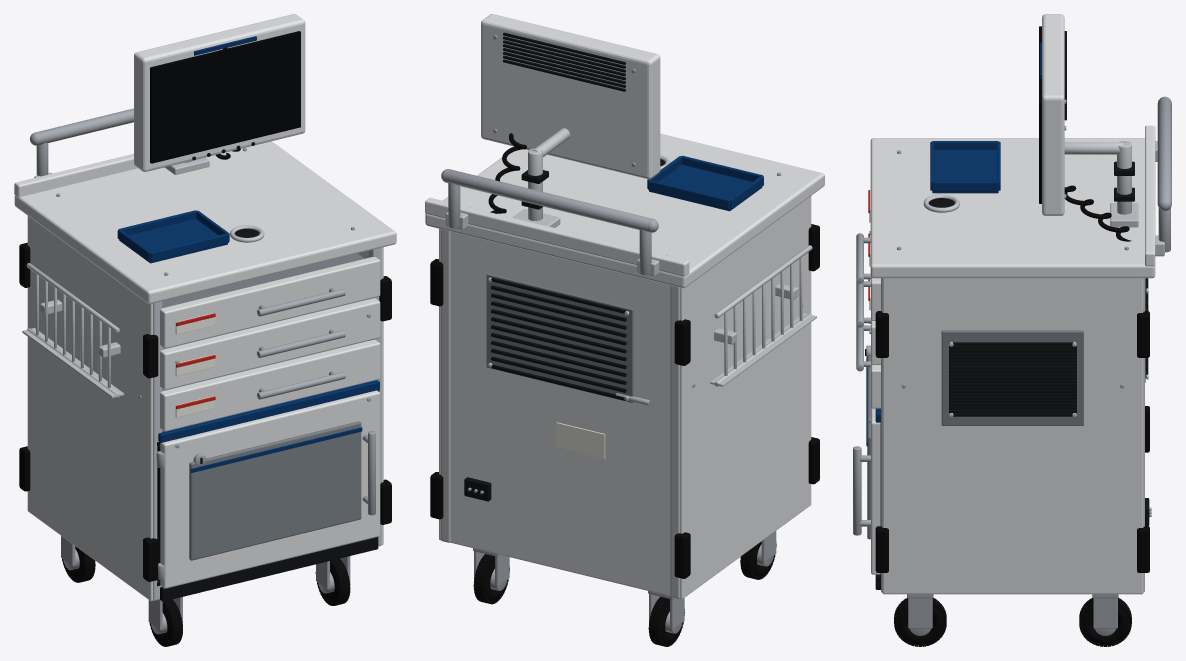
Rendered from demo-blender-001.lod0.glb.
3 renders of one model, left to right at view 1: azimuth 30°, elevation 25°; view 2: azimuth 150°, elevation 25°; view 3: azimuth 270°, elevation 25°, orthographic. The views are drawn at different scales.
Parts seen in each view (by area): view 1: body_left, door_single, worktop, monitor_screen, drawer_03, drawer_02, drawer_01, monitor_housing, side_basket, kick_plate, front_rail, worktop_upstand (+12 smaller); view 2: body_back, body_left, worktop, monitor_housing, back_vent_frame, side_basket, worktop_upstand, handle_bar, body_post_04, body_post_03, top_tray_floor, caster_04 (+23 smaller); view 3: body_right, worktop, monitor_housing, vent_frame, door_single, caster_02, caster_04, top_tray_floor, worktop_upstand, handle_bar, drawer_03, drawer_01 (+35 smaller).
Boxes of the visible parts, box(x1,y1,x2,y2) form: body_left: box(27, 216, 153, 601); door_single: box(160, 390, 380, 588); worktop: box(14, 141, 396, 303); monitor_screen: box(150, 31, 300, 163); drawer_03: box(160, 253, 380, 348); drawer_02: box(160, 298, 380, 389); drawer_01: box(160, 340, 380, 431); monitor_housing: box(134, 14, 305, 171); side_basket: box(22, 263, 124, 398); kick_plate: box(160, 537, 378, 601); front_rail: box(158, 380, 379, 442); worktop_upstand: box(14, 154, 137, 197); body_back: box(450, 231, 670, 596); body_left: box(680, 196, 811, 598); worktop: box(425, 133, 824, 288); monitor_housing: box(481, 14, 660, 179); back_vent_frame: box(486, 273, 633, 402); side_basket: box(710, 245, 816, 386); worktop_upstand: box(425, 197, 689, 276); handle_bar: box(445, 169, 652, 232); body_post_04: box(441, 229, 450, 542); body_post_03: box(670, 285, 679, 598); top_tray_floor: box(649, 164, 762, 211); caster_04: box(473, 548, 509, 604); body_right: box(882, 278, 1143, 594); worktop: box(870, 138, 1155, 278); monitor_housing: box(1042, 14, 1064, 215); vent_frame: box(941, 330, 1083, 425); door_single: box(853, 345, 880, 574); caster_02: box(894, 594, 946, 646); caster_04: box(1079, 594, 1131, 646); top_tray_floor: box(932, 150, 998, 193); worktop_upstand: box(1145, 125, 1155, 266); handle_bar: box(1157, 97, 1171, 202); drawer_03: box(856, 190, 880, 320); drawer_01: box(856, 279, 880, 408).
Bounding box in the file's own units: 0.676 × 1.31 × 0.672.
